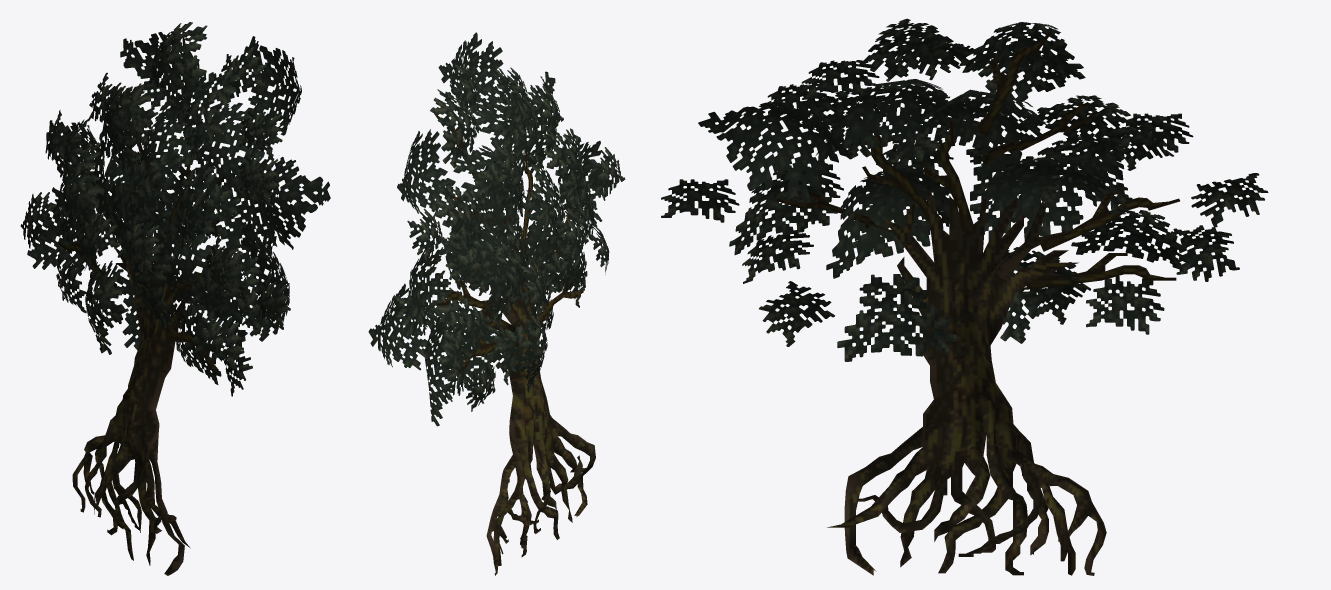
File: EnvFldMD_Tree_G_Mangrove_A.FBX
The picture shows the model from 3 angles, left to right: view 1: azimuth 30°, elevation 25°; view 2: azimuth 150°, elevation 25°; view 3: azimuth 270°, elevation 25°; orthographic projection. The views are drawn at different scales.
Parts seen in each view (by area): view 1: EnvFldMD_Tree_G_Mangrove_A; view 2: EnvFldMD_Tree_G_Mangrove_A; view 3: EnvFldMD_Tree_G_Mangrove_A.
Boxes of the visible parts, left/top/right/bottom form: EnvFldMD_Tree_G_Mangrove_A: left=20, top=22, right=330, bottom=575; EnvFldMD_Tree_G_Mangrove_A: left=368, top=32, right=625, bottom=575; EnvFldMD_Tree_G_Mangrove_A: left=661, top=18, right=1268, bottom=575.
Size of the model in its own units: 299 by 935 by 882.
Materials: 2 (2 with a texture image).
